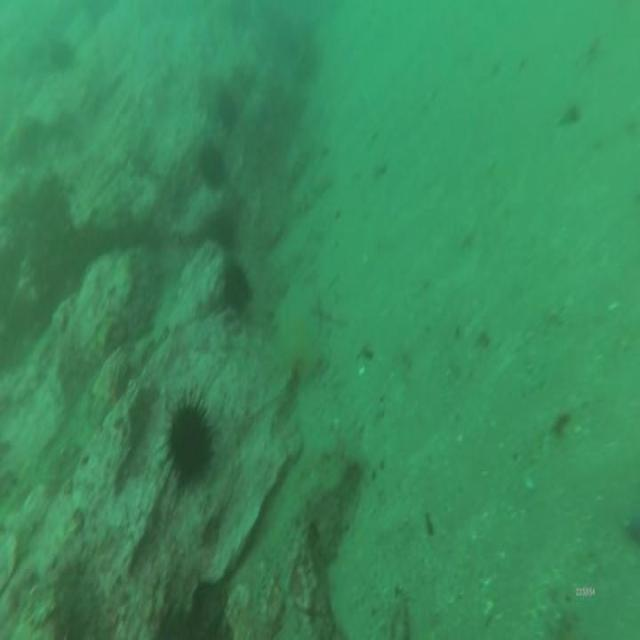echinus: (170, 404, 212, 484), (224, 266, 250, 314), (197, 145, 225, 188), (217, 89, 240, 132)
